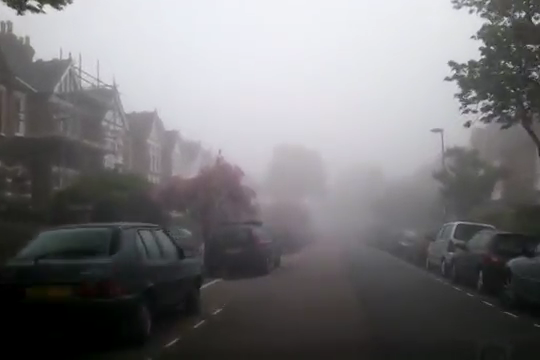car: (1, 219, 204, 345), (448, 225, 537, 296), (423, 220, 498, 279), (209, 222, 283, 279), (389, 224, 442, 267)
